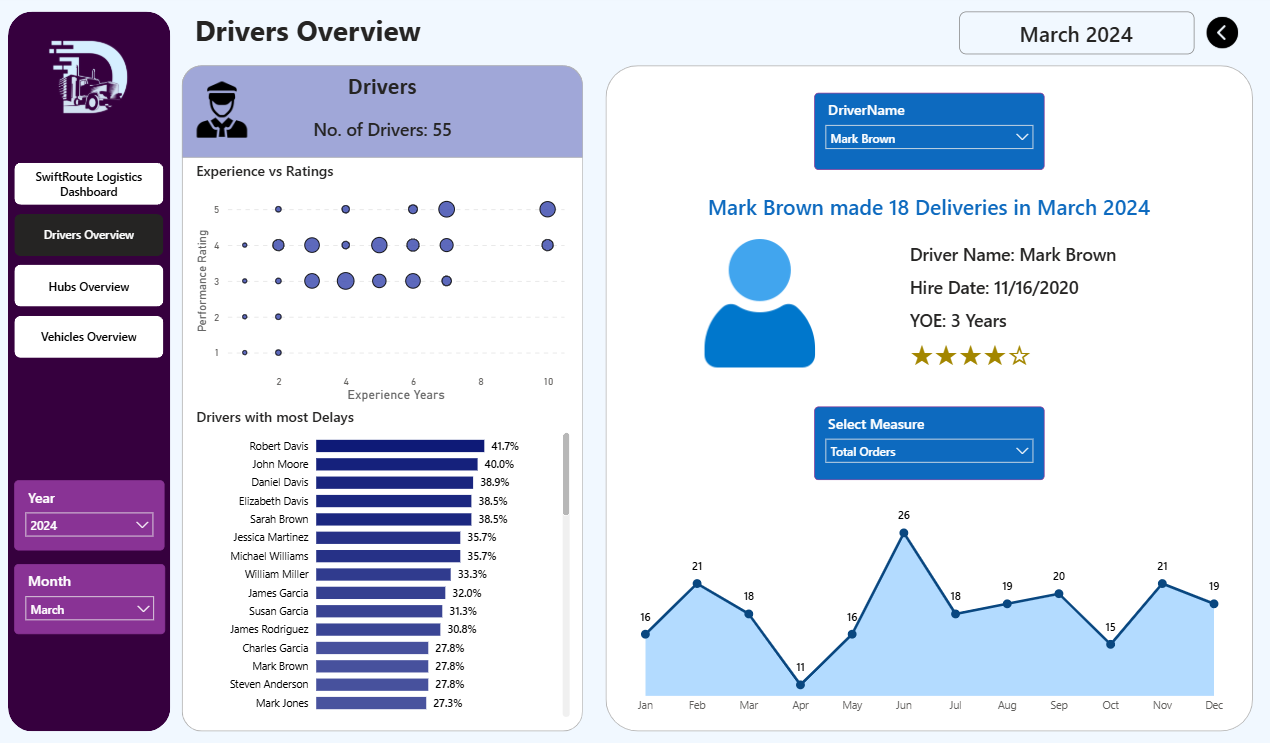

The page's visual inventory and layout, read from the dashboard file:
{"tool":"powerbi","page":{"name":"Drivers Overview","canvas":[1450,850],"ordinal":1},"visuals":[{"type":"shape","box":[11.4,14.2,185.2,820.4],"z":0},{"type":"textbox","box":[219.3,8.5,284.9,54.1],"z":1000},{"type":"slicer","fields":{"Values":["Date Table.Year"]},"box":[18.5,548.3,170.9,79.8],"z":2000},{"type":"slicer","fields":{"Values":["Date Table.MONTH"]},"box":[18.5,643.8,172.3,79.8],"z":3000},{"type":"shape","box":[209.4,75.5,457.2,759.1],"z":4000},{"type":"shape","box":[209.4,75.5,457.2,105.4],"z":5000},{"type":"cardVisual","fields":{"Data":["Drivers.No. of Drivers"]},"box":[334.7,125.3,207.9,42.7],"z":6000},{"type":"textbox","box":[357.5,78.3,160.9,55.5],"z":7000},{"type":"scatterChart","title":"Experience vs Ratings","fields":{"X":["Drivers.Experience Years"],"Y":["Drivers.Performance Rating"],"Size":["Sum(Drivers.Experience Years)"]},"box":[220.8,183.7,435.8,280.6],"z":8000},{"type":"barChart","title":"Drivers with most Delays","fields":{"Category":["Drivers.DriverName"],"Y":["Drivers.Delayed Delivery Rate"]},"box":[220.8,464.3,435.8,358.9],"z":9000},{"type":"image","box":[39.9,38.5,128.2,108.2],"z":10000},{"type":"cardVisual","fields":{"Data":["Orders.Year Month Title"]},"box":[1095.3,14.2,267.8,48.4],"z":11000},{"type":"shape","box":[692.2,75.5,737.8,759.1],"z":12000},{"type":"slicer","fields":{"Values":["Drivers.DriverName"]},"box":[930,106.8,262.1,88.3],"z":13000},{"type":"cardVisual","fields":{"Data":["Drivers.Drivers Title"]},"box":[692.2,213.6,737.8,42.7],"z":14000},{"type":"cardVisual","fields":{"Data":["Drivers.Driver Name Title","Drivers.Hire Date Title","Drivers.YOE Title","Drivers.Star Rating"]},"box":[1009.8,256.4,404.5,178],"z":15000},{"type":"image","box":[774.8,273.5,186.6,146.7],"z":16000},{"type":"slicer","fields":{"Values":["Select Measure.Select Measure"]},"box":[930,464.3,262.1,84],"z":17000},{"type":"areaChart","fields":{"Y":["Orders.Total Orders"],"Category":["Date Table.Month Abr"]},"box":[709.3,548.3,705,274.9],"z":18000},{"type":"image","box":[1375.8,14.2,38.5,48.4],"z":19000},{"type":"pageNavigator","box":[18.5,186.6,170.9,222],"z":20000},{"type":"image","box":[220.8,94,68.4,64.1],"z":21000}]}

Visuals, with their boxes in screenshot pixels (x1, y1, x2, y2), scaled from the page's 1450x850 canvas onto the 1270x743 screenshot:
shape: (x1=10, y1=12, x2=172, y2=730)
textbox: (x1=192, y1=7, x2=442, y2=55)
slicer - Date Table.Year: (x1=16, y1=479, x2=166, y2=549)
slicer - Date Table.MONTH: (x1=16, y1=563, x2=167, y2=633)
shape: (x1=183, y1=66, x2=584, y2=730)
shape: (x1=183, y1=66, x2=584, y2=158)
cardVisual - Drivers.No. of Drivers: (x1=293, y1=110, x2=475, y2=147)
textbox: (x1=313, y1=68, x2=454, y2=117)
"Experience vs Ratings" scatterChart: (x1=193, y1=161, x2=575, y2=406)
"Drivers with most Delays" barChart: (x1=193, y1=406, x2=575, y2=720)
image: (x1=35, y1=34, x2=147, y2=128)
cardVisual - Orders.Year Month Title: (x1=959, y1=12, x2=1194, y2=55)
shape: (x1=606, y1=66, x2=1252, y2=730)
slicer - Drivers.DriverName: (x1=815, y1=93, x2=1044, y2=171)
cardVisual - Drivers.Drivers Title: (x1=606, y1=187, x2=1252, y2=224)
cardVisual - Drivers.Driver Name Title x Drivers.Hire Date Title: (x1=884, y1=224, x2=1239, y2=380)
image: (x1=679, y1=239, x2=842, y2=367)
slicer - Select Measure.Select Measure: (x1=815, y1=406, x2=1044, y2=479)
areaChart - Orders.Total Orders x Date Table.Month Abr: (x1=621, y1=479, x2=1239, y2=720)
image: (x1=1205, y1=12, x2=1239, y2=55)
pageNavigator: (x1=16, y1=163, x2=166, y2=357)
image: (x1=193, y1=82, x2=253, y2=138)
